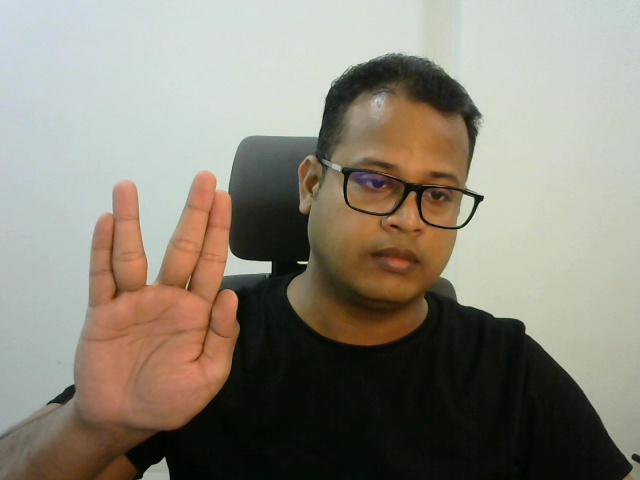LongLive: (77, 169, 240, 431)
